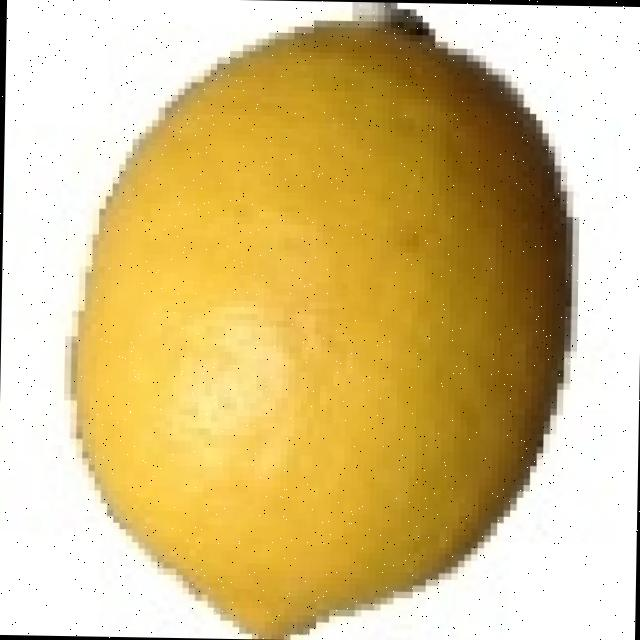lemon: (76, 11, 568, 639)
